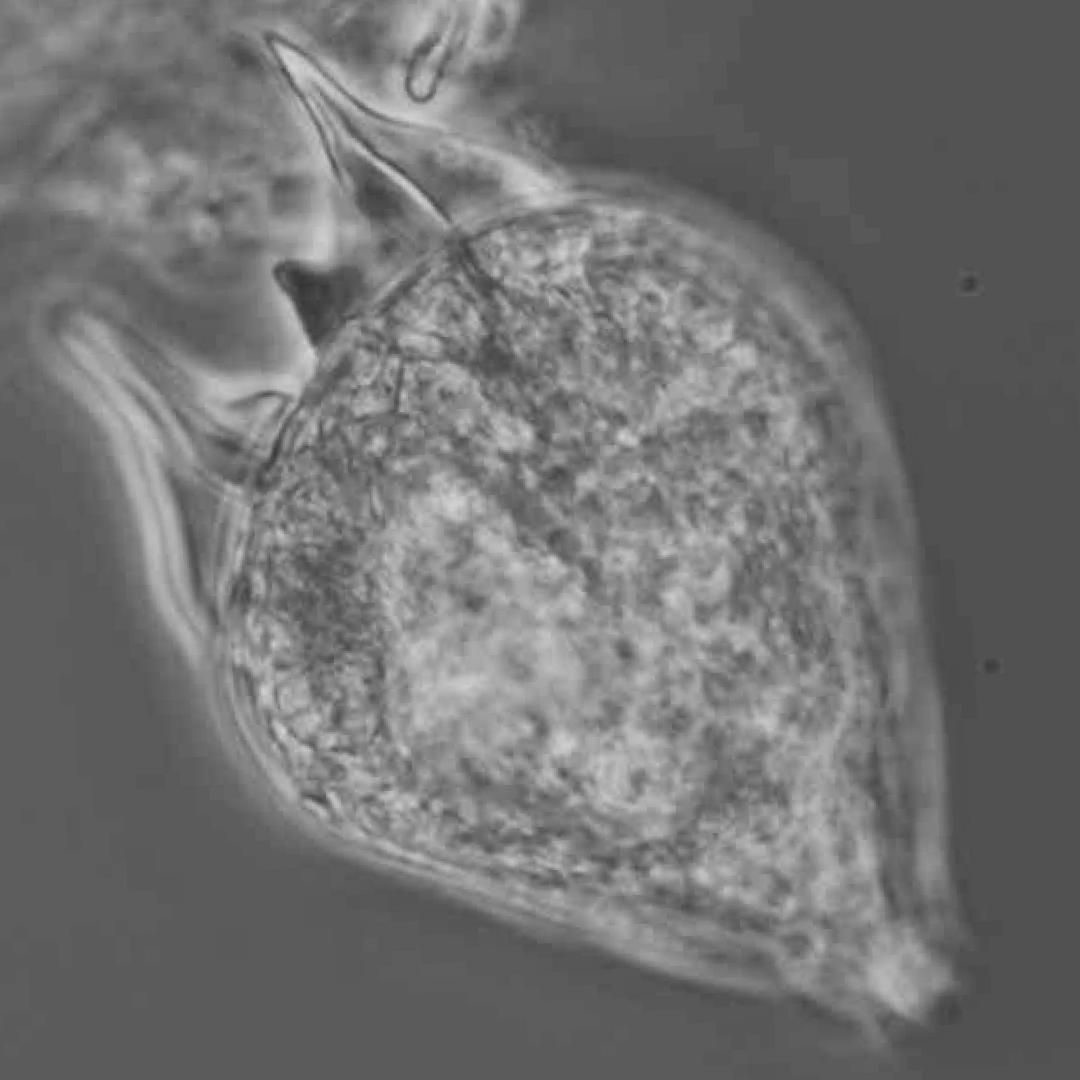podolampas_bipes: (57, 36, 971, 1053)
